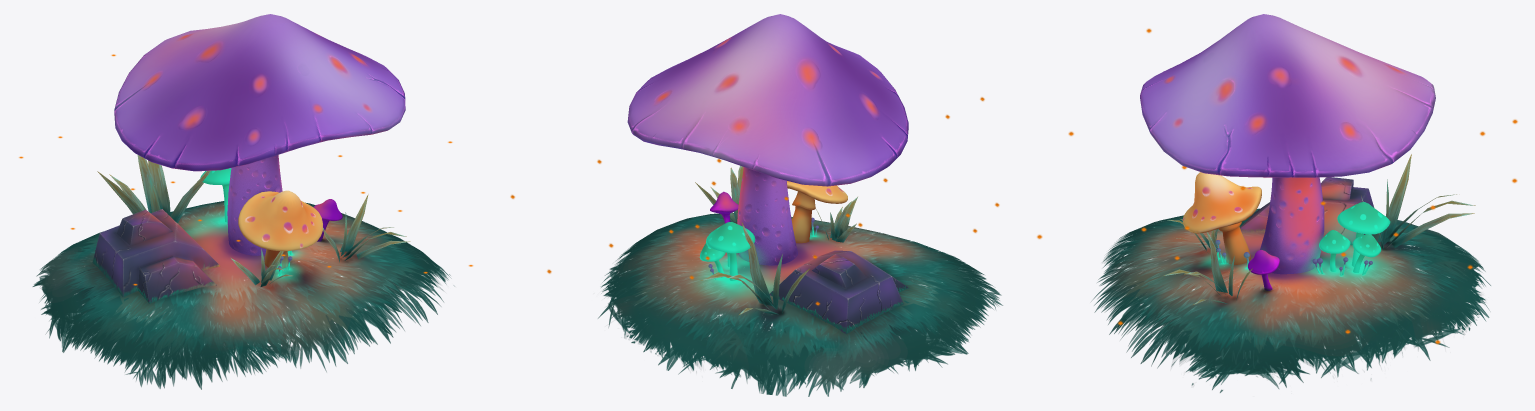
The model's file is mushroom.glb.
The picture shows the model from 3 angles, left to right: view 1: azimuth 30°, elevation 25°; view 2: azimuth 150°, elevation 25°; view 3: azimuth 270°, elevation 25°; orthographic projection. The views are drawn at different scales.
Parts seen in each view (by area): view 1: Plane, Circle, Cube.001, Circle.001, Plane.002, Cube, Plane.003, Plane.001, Circle.002, Circle.005; view 2: Plane, Circle, Cube.001, Circle.001, Plane.002, Circle.002, Cube, Plane.001, Plane.003, Circle.005; view 3: Plane, Circle, Circle.001, Plane.002, Cube.001, Circle.002, Plane.003, Circle.005, Cube, Circle.004, Circle.006, Plane.004.
Boxes of the visible parts, x1=… form: Plane: x1=32, y1=201, x2=454, y2=389; Circle: x1=114, y1=14, x2=405, y2=255; Cube.001: x1=92, y1=209, x2=220, y2=303; Circle.001: x1=238, y1=190, x2=322, y2=269; Plane.002: x1=97, y1=155, x2=210, y2=223; Cube: x1=116, y1=209, x2=172, y2=245; Plane.003: x1=323, y1=194, x2=410, y2=262; Plane.001: x1=230, y1=248, x2=292, y2=286; Circle.002: x1=200, y1=168, x2=231, y2=222; Circle.005: x1=313, y1=199, x2=342, y2=241; Plane: x1=598, y1=213, x2=1002, y2=396; Circle: x1=627, y1=14, x2=908, y2=265; Cube.001: x1=769, y1=250, x2=908, y2=334; Circle.001: x1=787, y1=181, x2=847, y2=243; Plane.002: x1=701, y1=222, x2=809, y2=314; Circle.002: x1=706, y1=222, x2=755, y2=280; Cube: x1=812, y1=254, x2=865, y2=288; Plane.001: x1=816, y1=197, x2=857, y2=242; Plane.003: x1=695, y1=165, x2=743, y2=223; Circle.005: x1=710, y1=191, x2=738, y2=223; Plane: x1=1091, y1=208, x2=1490, y2=392; Circle: x1=1140, y1=14, x2=1435, y2=274; Circle.001: x1=1182, y1=172, x2=1261, y2=264; Plane.002: x1=1361, y1=154, x2=1475, y2=249; Cube.001: x1=1240, y1=187, x2=1374, y2=245; Circle.002: x1=1337, y1=202, x2=1390, y2=266; Plane.003: x1=1163, y1=232, x2=1252, y2=304; Circle.005: x1=1248, y1=250, x2=1279, y2=290; Cube: x1=1320, y1=177, x2=1353, y2=200; Circle.004: x1=1319, y1=230, x2=1350, y2=271; Circle.006: x1=1352, y1=234, x2=1381, y2=272; Plane.004: x1=1037, y1=28, x2=1517, y2=344.
Bounding box in the file's own units: 4.37 × 3.12 × 4.49.
Materials: 2 (2 with a texture image).
